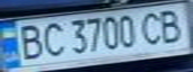0: (118, 11, 139, 47), (103, 13, 121, 51)
3: (66, 17, 87, 55)
7: (84, 15, 106, 52)
B: (12, 21, 48, 61), (154, 7, 187, 44)
C: (136, 8, 169, 46), (36, 19, 66, 57)
